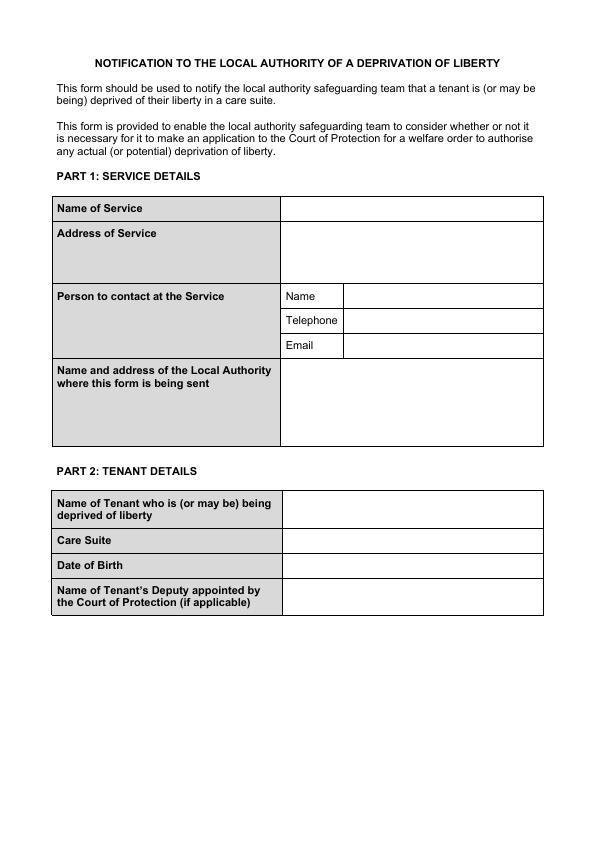table: (48, 194, 551, 453), (47, 489, 551, 625)
text: (53, 117, 539, 160), (51, 79, 542, 107), (91, 54, 503, 68), (51, 460, 200, 480), (53, 167, 204, 185)
